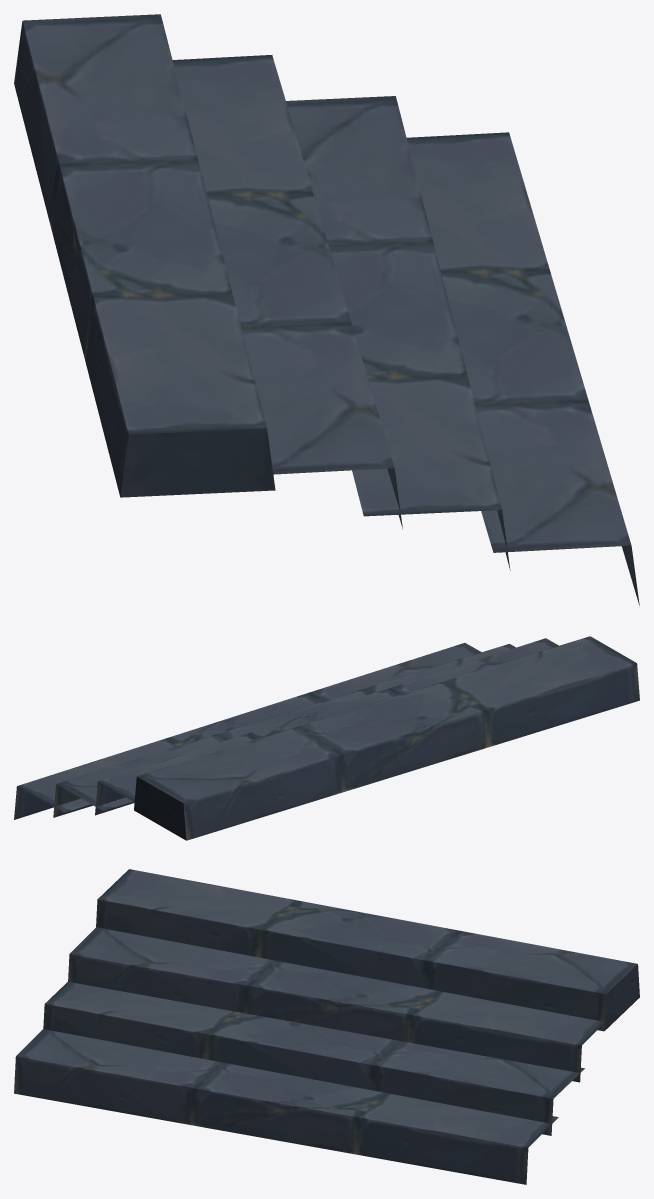
The model's file is Area_08_3.fbx.
3 views of the same model, one above another, from view 1: azimuth 30°, elevation 25°; view 2: azimuth 150°, elevation 25°; view 3: azimuth 270°, elevation 25° (orthographic). The views are drawn at different scales.
Parts seen in each view (by area): view 1: Area_08_3; view 2: Area_08_3; view 3: Area_08_3.
Part boxes in pixels (box(x1,y1,x2,y2)): Area_08_3: box(14, 14, 639, 605); Area_08_3: box(14, 636, 639, 840); Area_08_3: box(14, 869, 639, 1184).
Bounding box in the file's own units: 636 × 161 × 818.
